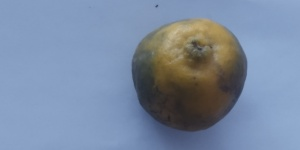BAD: (131, 16, 249, 131)
